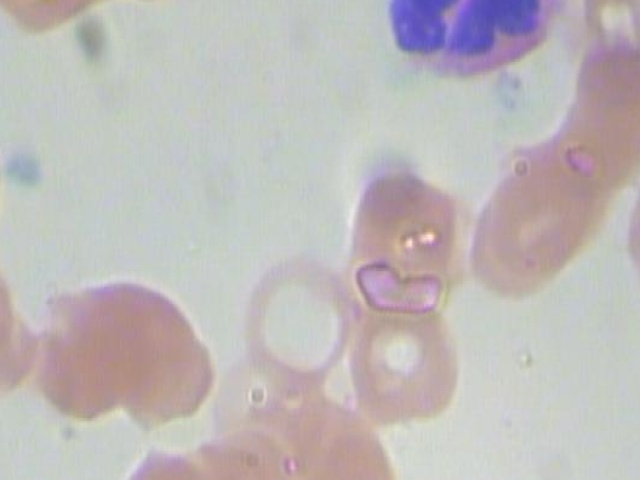RBC: (344, 163, 470, 321), (344, 285, 470, 443), (230, 241, 356, 398), (469, 153, 594, 310), (29, 271, 157, 420), (111, 277, 220, 427), (98, 445, 244, 480), (0, 0, 114, 38), (613, 163, 640, 321)
WBC: (378, 0, 573, 88)
